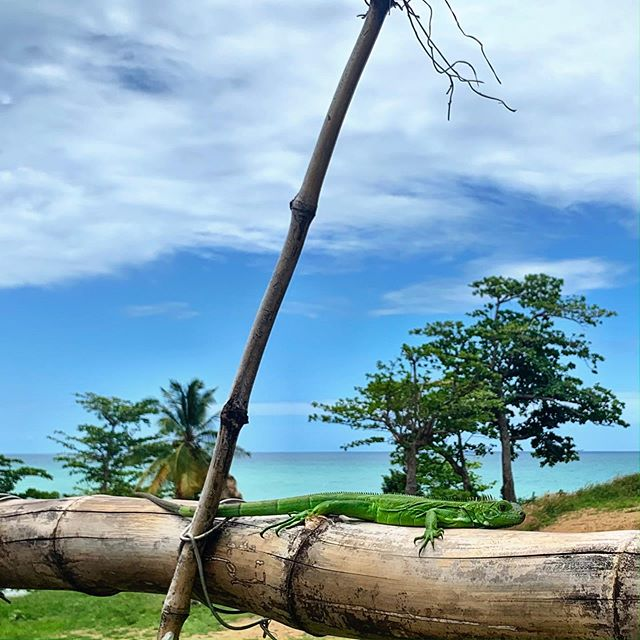animal: (162, 479, 538, 542)
sky: (1, 1, 640, 376)
tree: (455, 276, 621, 516), (307, 372, 462, 497), (152, 360, 247, 512), (60, 386, 153, 491)
